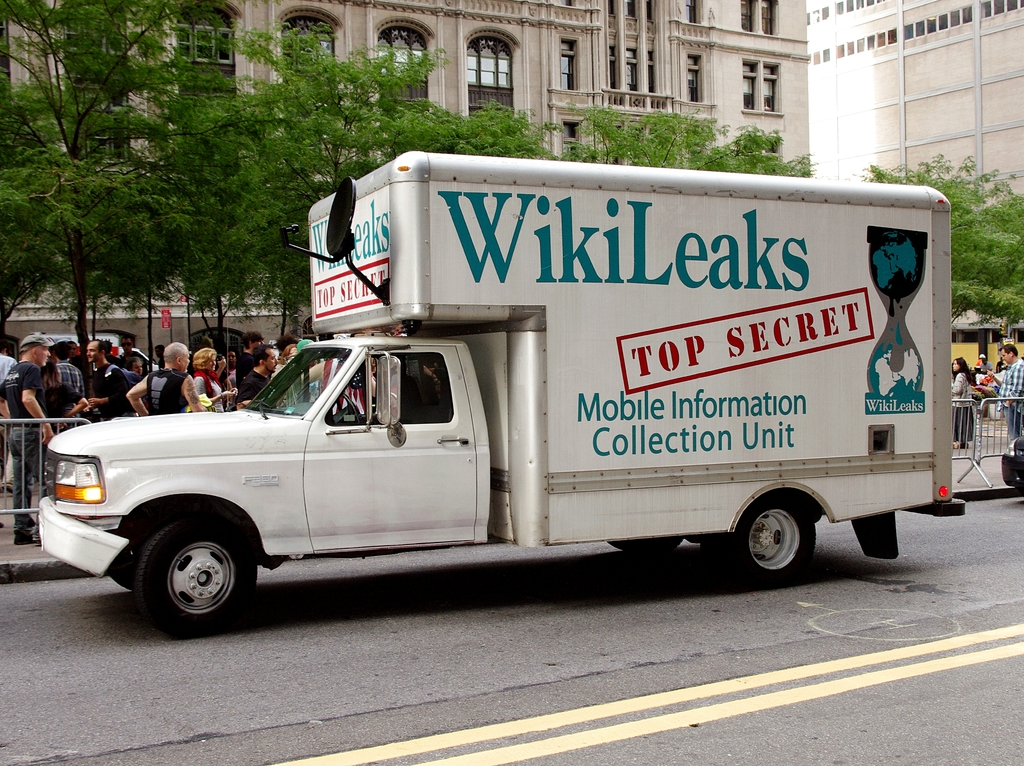Car: (999, 433, 1023, 486)
